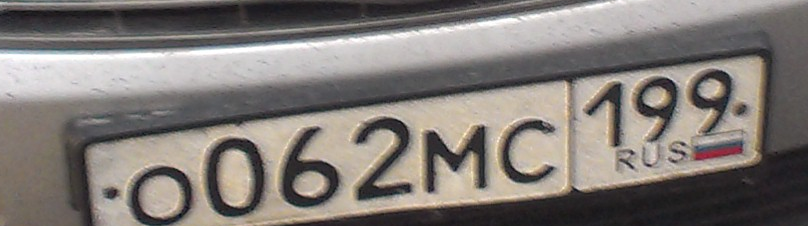character: (199, 130, 269, 226), (274, 121, 346, 213), (492, 105, 567, 190), (347, 116, 417, 207), (419, 118, 494, 200), (126, 163, 196, 226), (632, 67, 683, 145), (686, 62, 735, 141), (582, 80, 632, 153)
